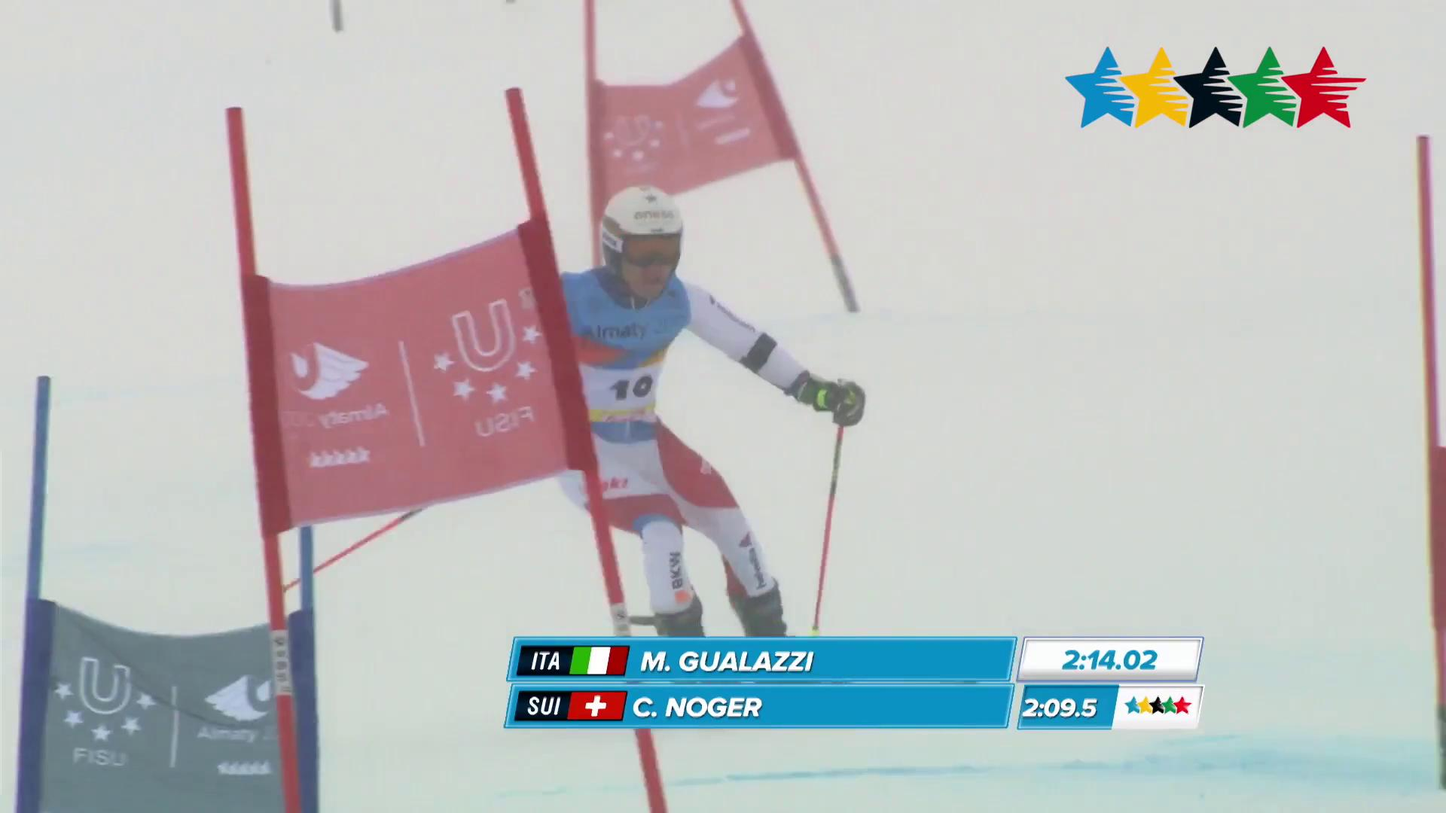gate: (507, 89, 629, 635), (227, 107, 300, 812), (730, 0, 858, 312), (17, 376, 50, 812), (584, 0, 609, 221), (636, 732, 665, 812), (591, 233, 600, 262)
